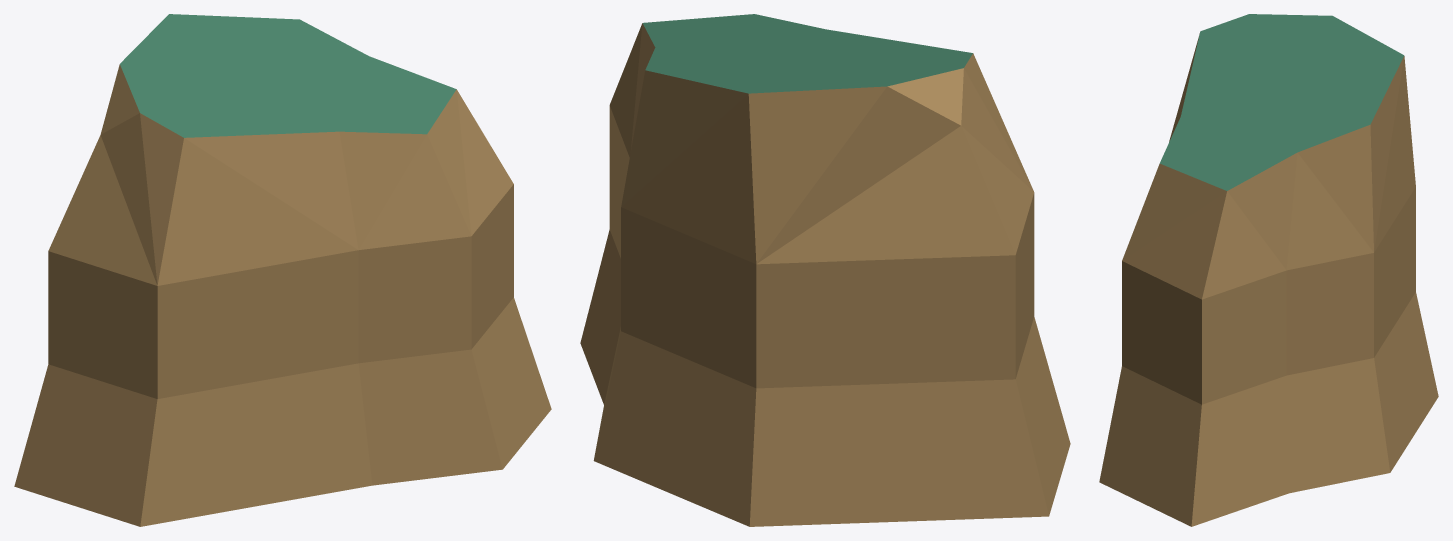
Rendered from Rock_Large_Mesa_Eroded_Moss_Grass_06.FBX.
The picture shows the model from 3 angles, left to right: view 1: azimuth 30°, elevation 25°; view 2: azimuth 150°, elevation 25°; view 3: azimuth 270°, elevation 25°; orthographic projection. The views are drawn at different scales.
Parts seen in each view (by area): view 1: Rock_Large_Mesa_Eroded_Moss_Grass_06; view 2: Rock_Large_Mesa_Eroded_Moss_Grass_06; view 3: Rock_Large_Mesa_Eroded_Moss_Grass_06.
Boxes of the visible parts, x1,y1,x2,y2 form: Rock_Large_Mesa_Eroded_Moss_Grass_06: (14,14,551,526); Rock_Large_Mesa_Eroded_Moss_Grass_06: (580,14,1070,526); Rock_Large_Mesa_Eroded_Moss_Grass_06: (1099,14,1438,526).
Size of the model in its own units: 6670 by 4980 by 4376.
